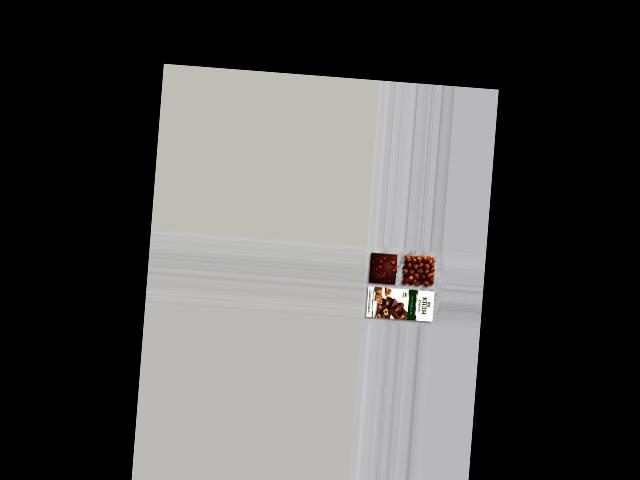chocolate: (367, 249, 398, 286)
